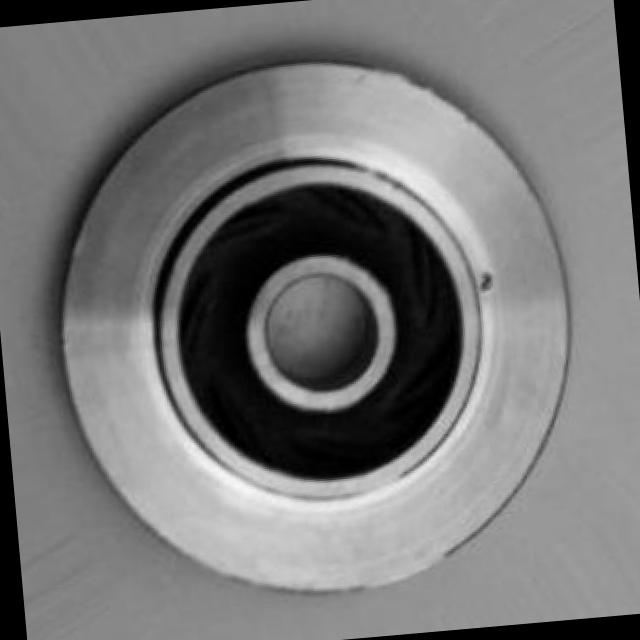Defect: (474, 264, 500, 300)
